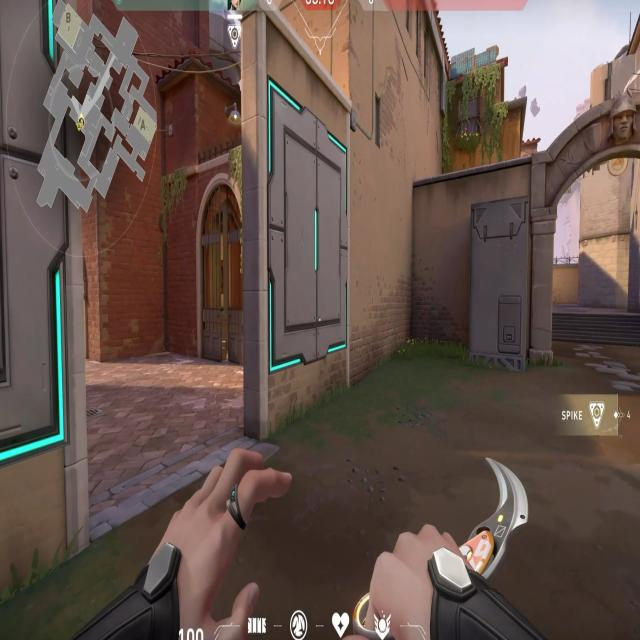Mid_Wall: (247, 0, 353, 415)
